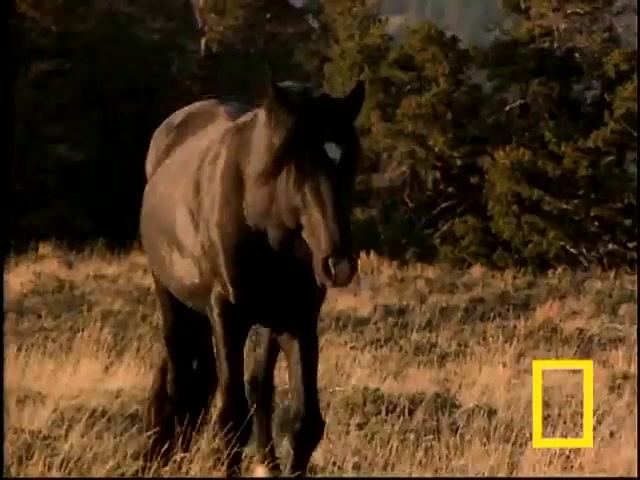horse: (141, 65, 368, 477)
